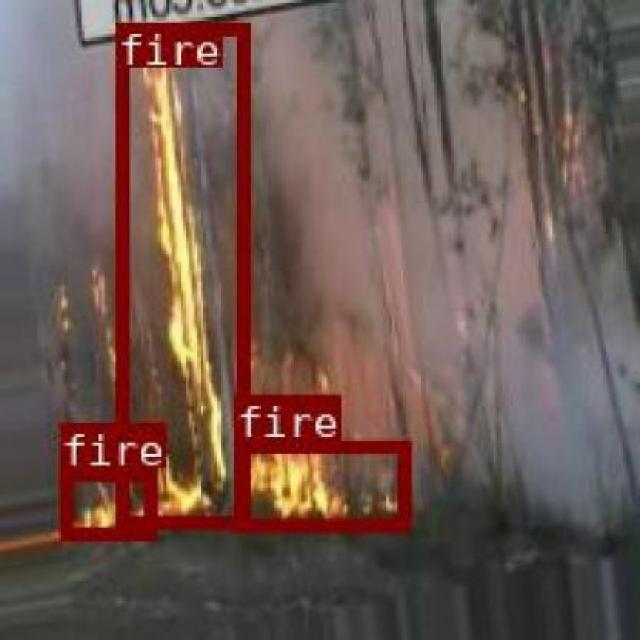Fire: (114, 21, 248, 527), (233, 438, 407, 530), (58, 468, 154, 536)
